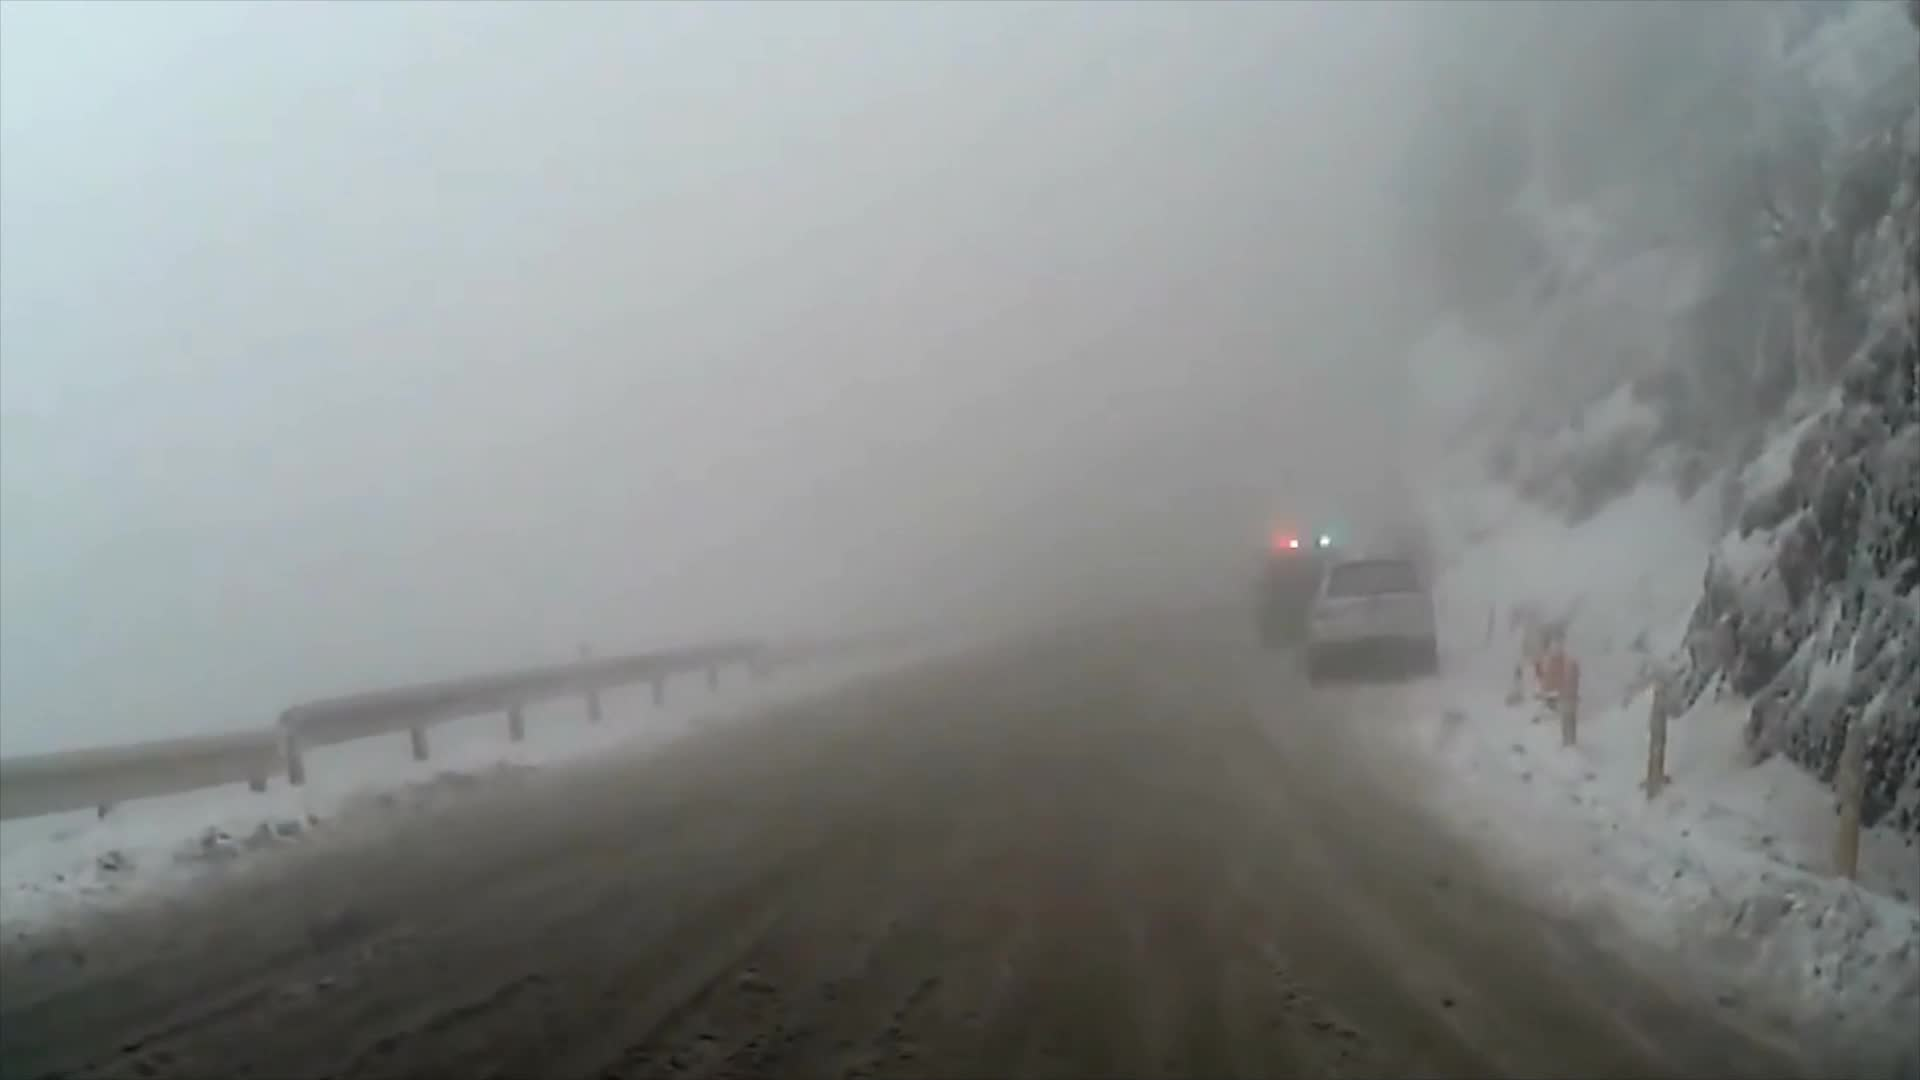vehicle: (1309, 547, 1437, 680), (1244, 549, 1357, 659)
